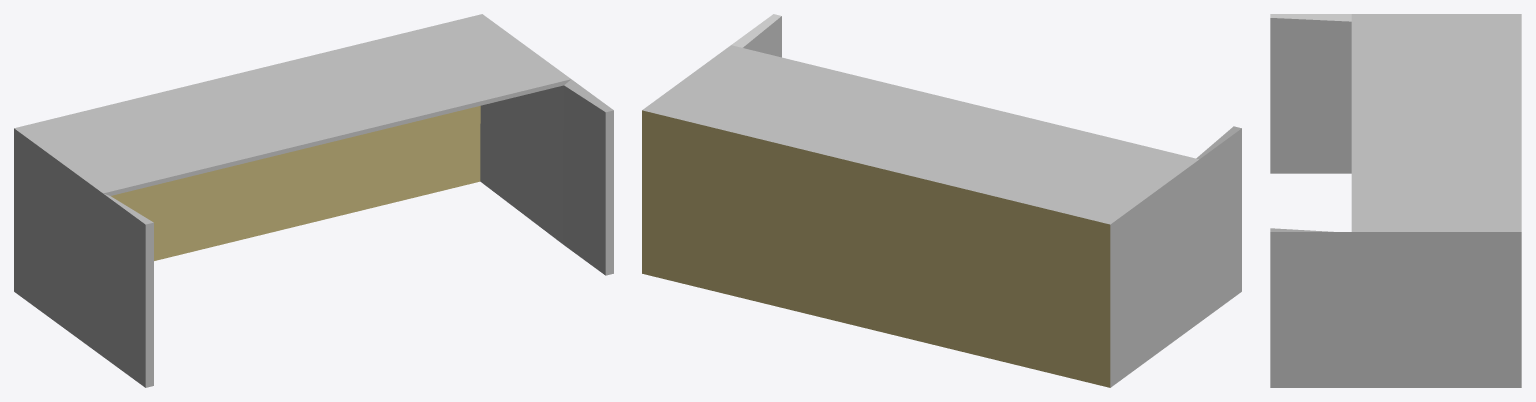
The model's file is ПДС.fbx.
3 views of the same model, side by side, from view 1: azimuth 30°, elevation 25°; view 2: azimuth 150°, elevation 25°; view 3: azimuth 270°, elevation 25° (orthographic). The views are drawn at different scales.
Visible parts, largest first — view 1: Cube; view 2: Cube; view 3: Cube.
Boxes of the visible parts, x1,y1,x2,y2 form: Cube: [14, 14, 613, 387]; Cube: [642, 14, 1241, 387]; Cube: [1270, 14, 1521, 387].
Bounding box in the file's own units: 150 × 50 × 73.
